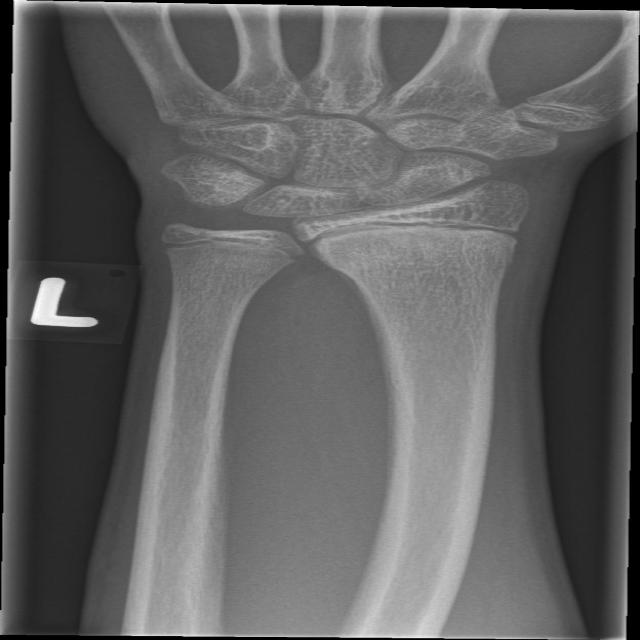fracture: (282, 213, 541, 260), (149, 220, 323, 266)
